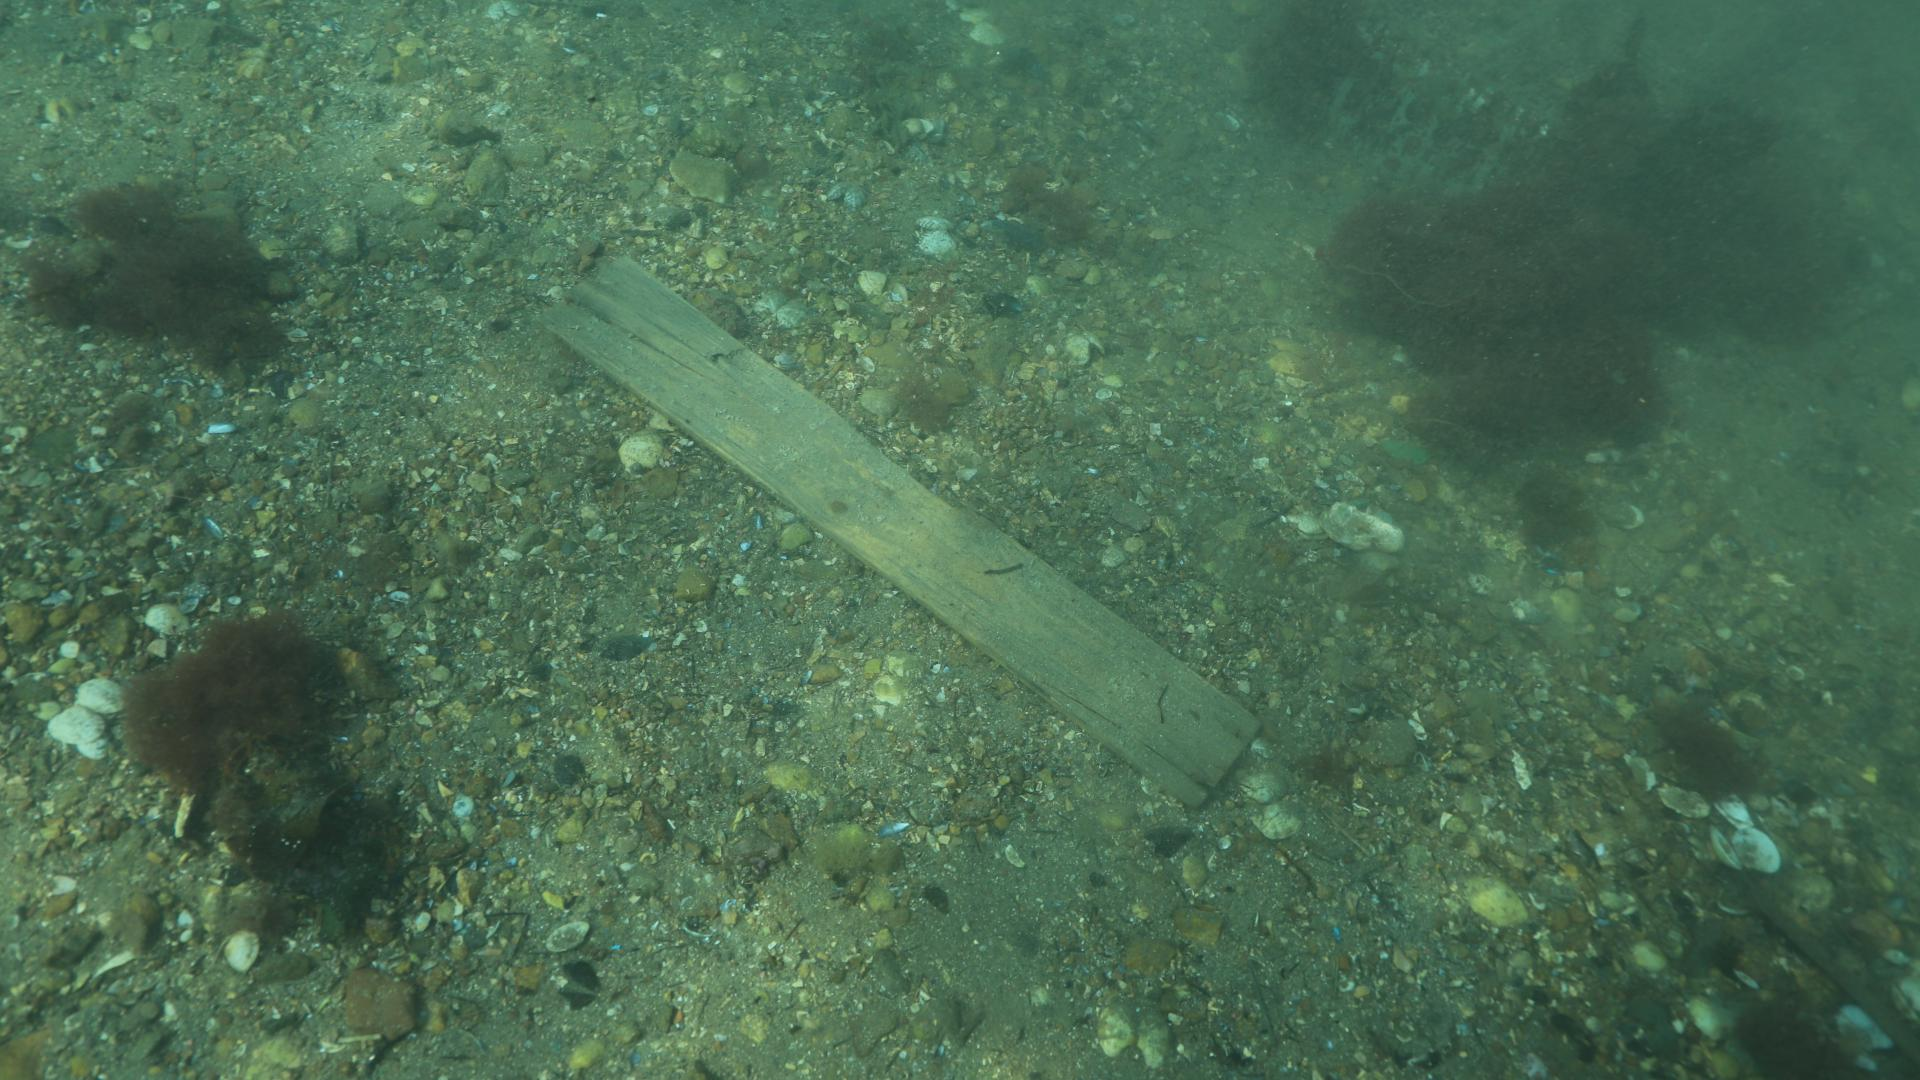wood: (537, 251, 1262, 808)
